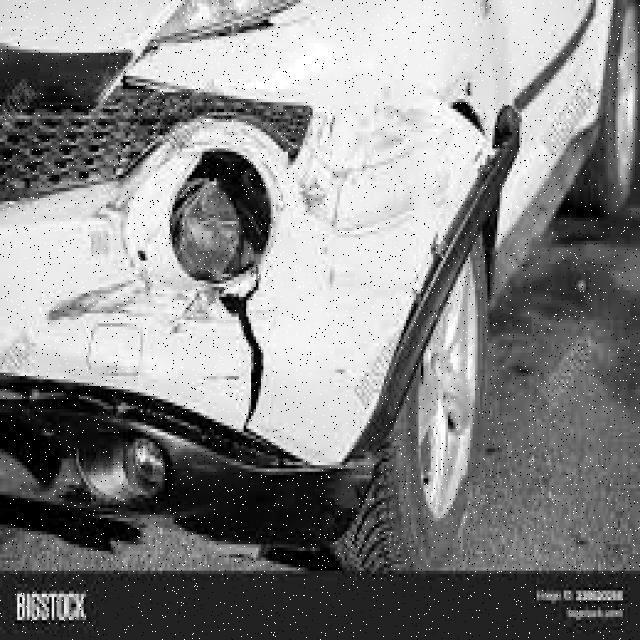front-bumper-dent: (1, 87, 528, 466)
